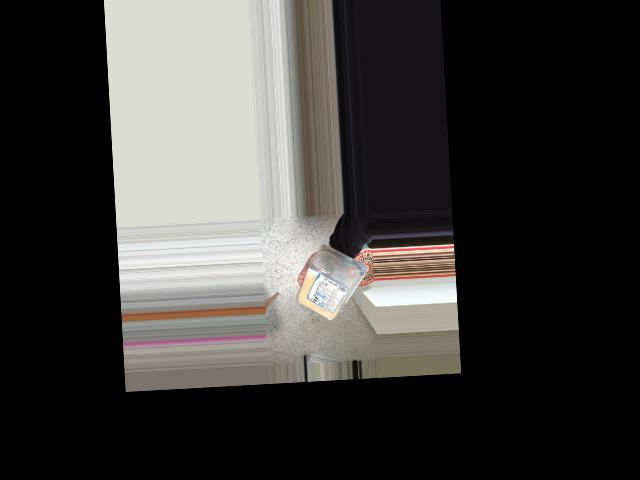cheese: (303, 252, 365, 324)
